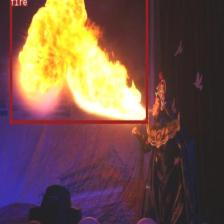fire: (9, 0, 147, 122)
